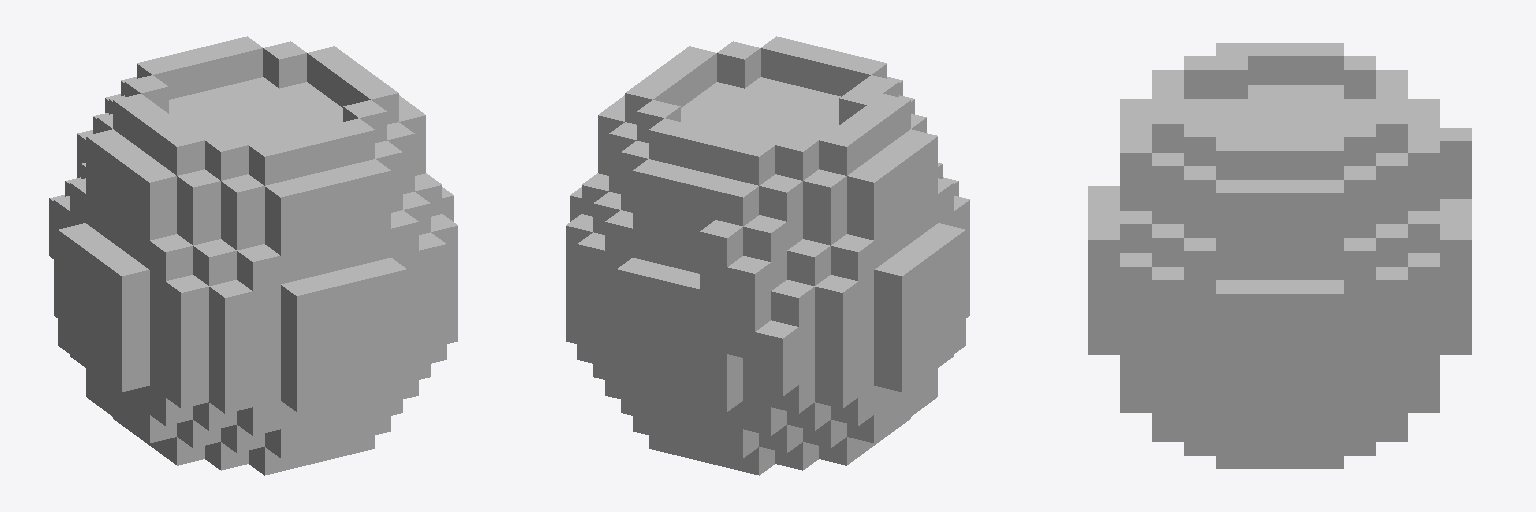
File: Snowman_Body_2.obj
3 views of the same model, side by side, from view 1: azimuth 30°, elevation 25°; view 2: azimuth 150°, elevation 25°; view 3: azimuth 270°, elevation 25° (orthographic).
Visible parts, largest first — view 1: object 1; view 2: object 1; view 3: object 1.
Boxes of the visible parts, box(x1,y1,x2,y2) form: object 1: box(49, 36, 457, 475); object 1: box(566, 36, 969, 475); object 1: box(1088, 43, 1471, 468).
Bounding box in the file's own units: 1.2 × 1.1 × 1.2.